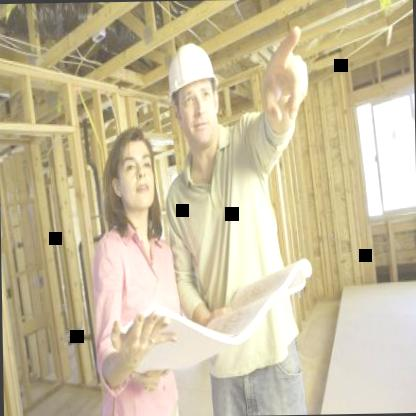helmet: (160, 40, 224, 169)
